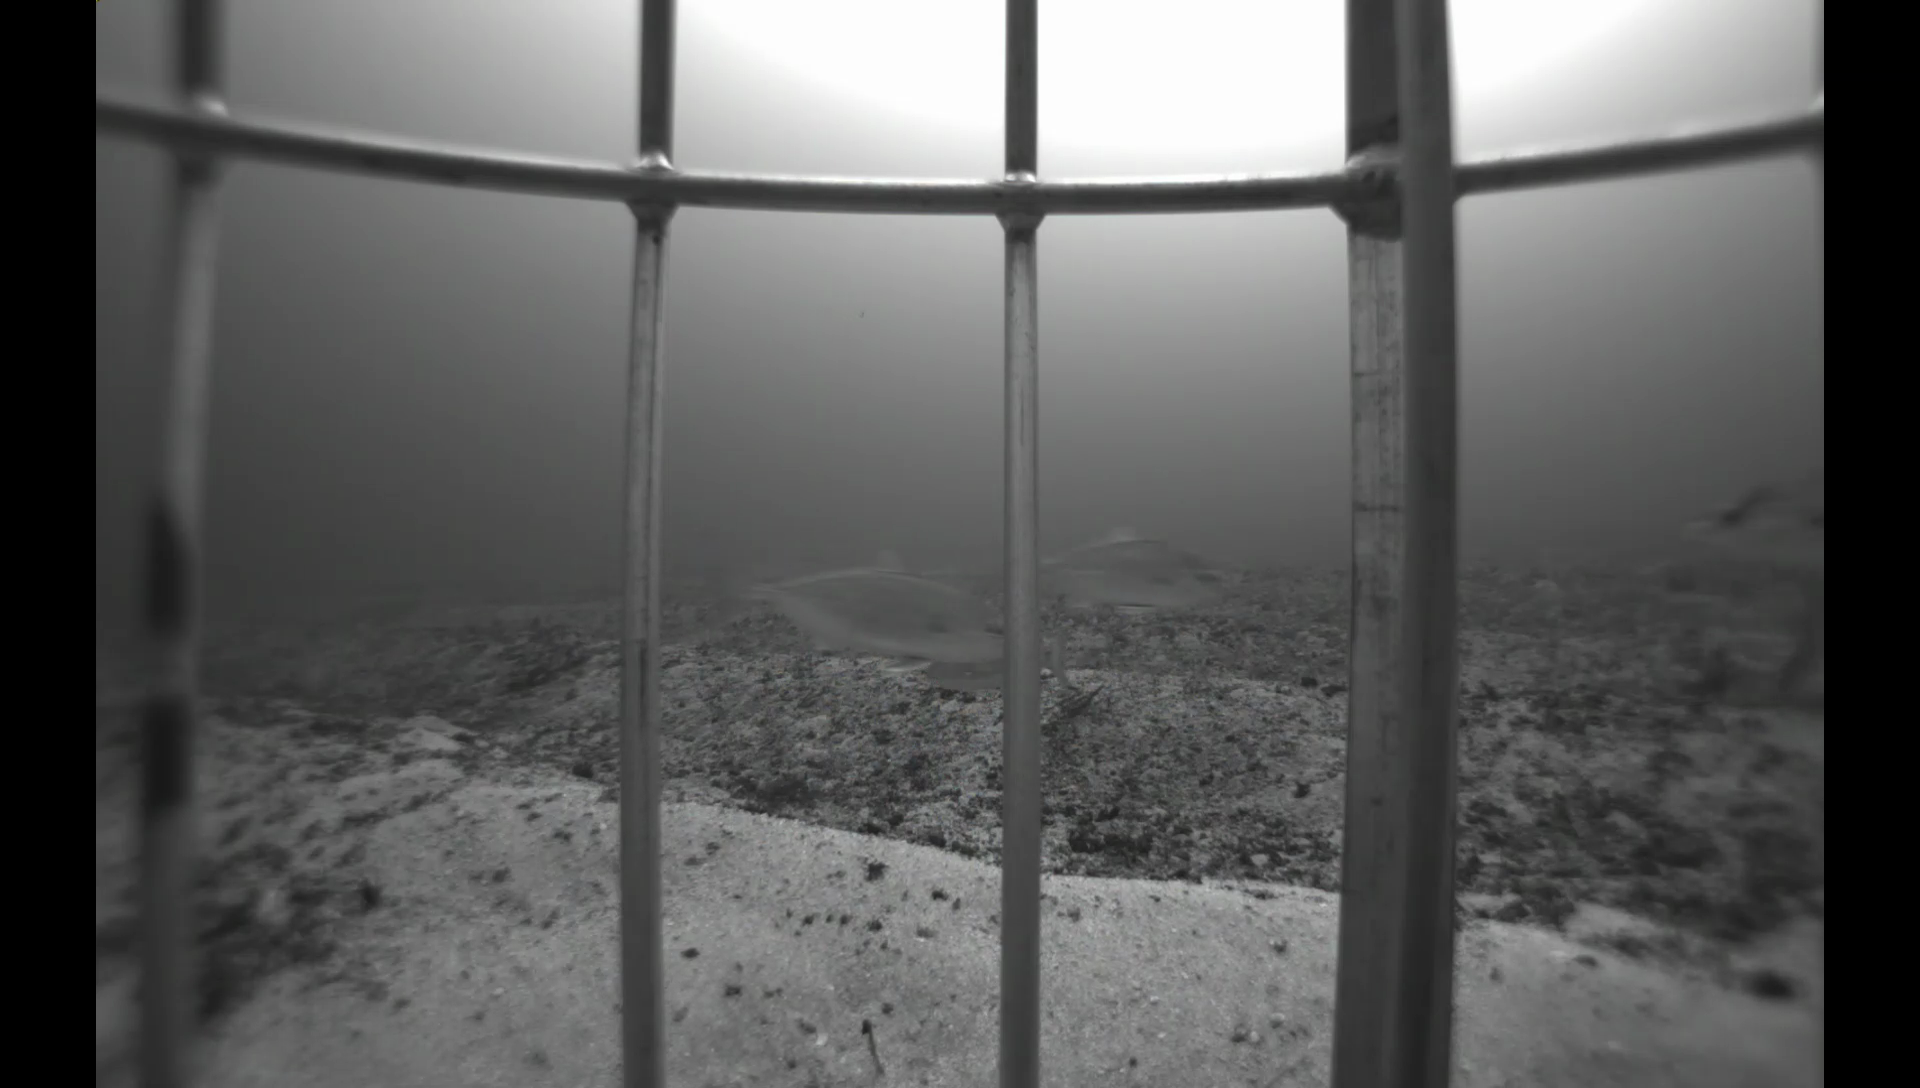CALAMUSPRORIDENS-170210605: (922, 628, 1073, 691)
RHOMBOPLITESAURORUBENS-170152001: (1764, 620, 1822, 711)
SERIOLAFASCIATA-170113103: (692, 535, 1005, 669), (1039, 529, 1241, 624), (1659, 466, 1822, 576)
